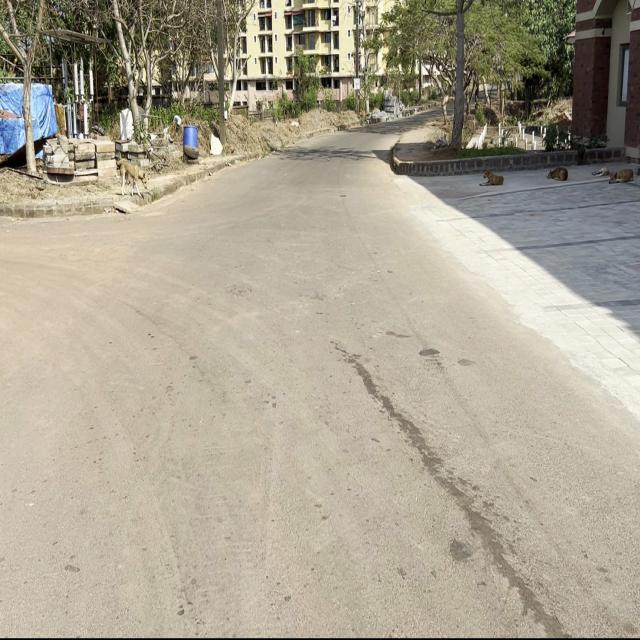Road: (1, 128, 640, 636)
